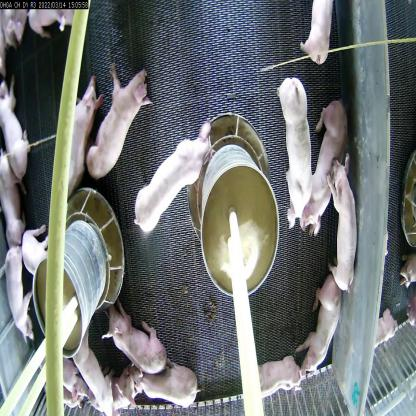Pig: (127, 121, 212, 240), (86, 76, 151, 199), (272, 75, 318, 222), (298, 263, 348, 390), (305, 92, 348, 232), (126, 338, 202, 415), (99, 296, 173, 375), (52, 80, 101, 186), (68, 325, 121, 415), (0, 251, 44, 347), (330, 163, 360, 293), (242, 356, 307, 416), (0, 67, 28, 178), (0, 144, 29, 241), (296, 5, 336, 71), (20, 228, 48, 282)
